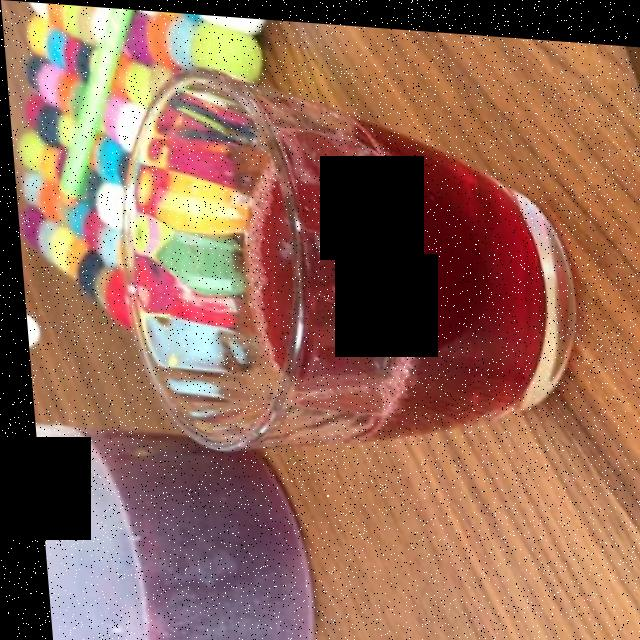syrup-diluted-ready-to-drink: (250, 92, 549, 454)
